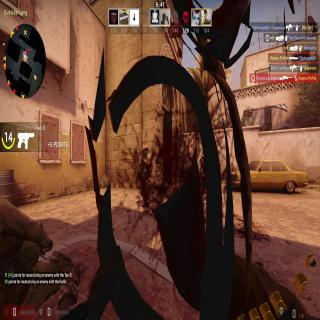CT-Body: (198, 155, 206, 192)
CT-Head: (201, 156, 204, 163)
